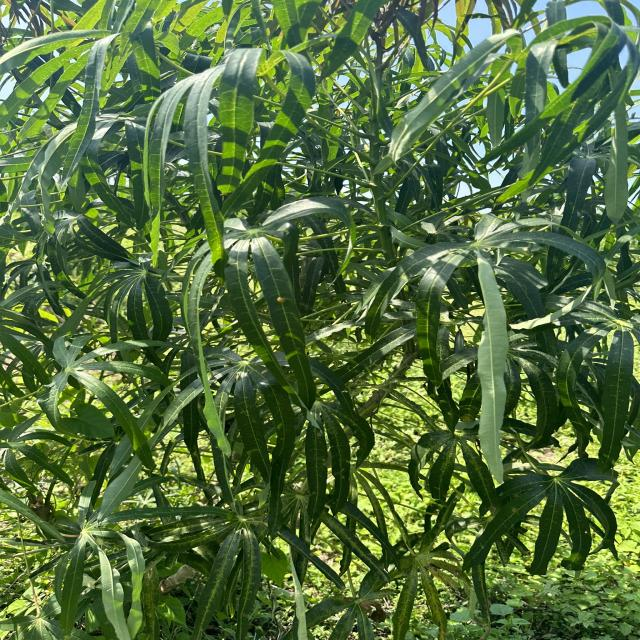Mosca: (265, 285, 300, 309)
